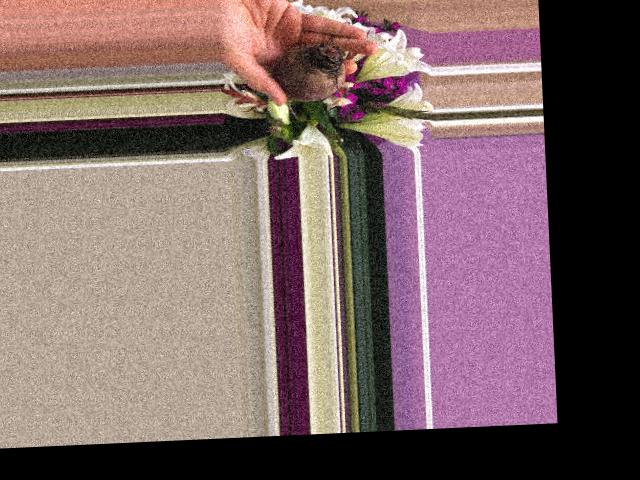beet: (270, 41, 348, 120)
